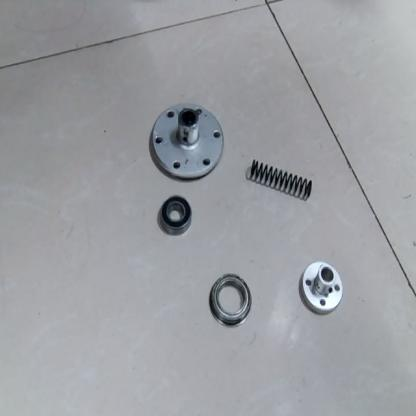FOD: (148, 100, 226, 181), (250, 155, 319, 202), (204, 269, 254, 330), (298, 260, 342, 316), (158, 189, 194, 240)
